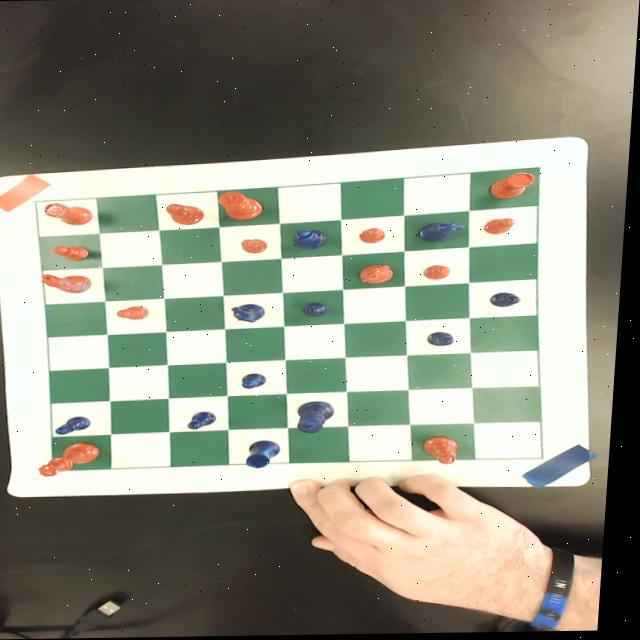B: (295, 229, 332, 249)
K: (301, 401, 342, 433)
N: (421, 220, 471, 243), (235, 304, 272, 324)
P: (60, 416, 97, 435), (191, 411, 222, 430), (493, 293, 526, 309), (430, 331, 461, 348), (245, 373, 272, 389), (306, 302, 334, 317)
R: (252, 440, 288, 469)
b: (428, 437, 469, 465), (167, 203, 208, 225)
k: (220, 191, 268, 221)
n: (42, 270, 97, 294), (360, 263, 399, 286)
p: (55, 244, 97, 261), (486, 219, 520, 235), (120, 304, 154, 320), (242, 238, 273, 255), (361, 227, 389, 244), (425, 265, 454, 281)
q: (43, 441, 107, 477)
r: (489, 173, 541, 201), (45, 201, 96, 226)
